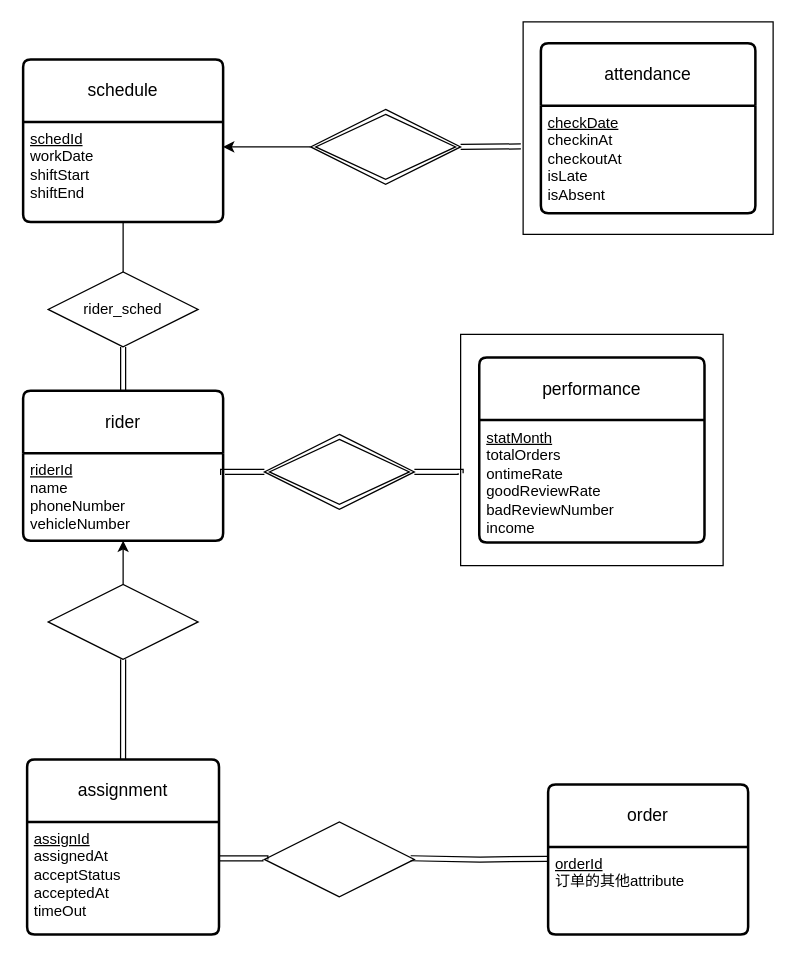
The diagram is 795 pixels wide and 958 high, and some of its shapes have lost their labels. Here are the shapes that lost their labels. From the top down, the centre of each, then its label:
At (x=385, y=146): "sched_attend".
At (x=338, y=471): "rider_perform".
At (x=122, y=621): "rider_assign".
At (x=338, y=859): "assign_order".
